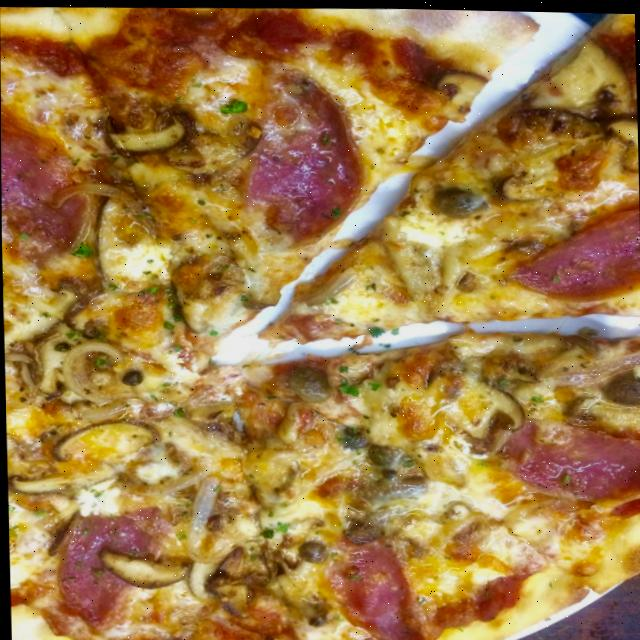pepperoni: (510, 189, 640, 290), (1, 109, 86, 263), (53, 517, 155, 628), (243, 125, 354, 217), (328, 533, 415, 640), (513, 428, 640, 496)
pizza: (0, 0, 640, 640)
